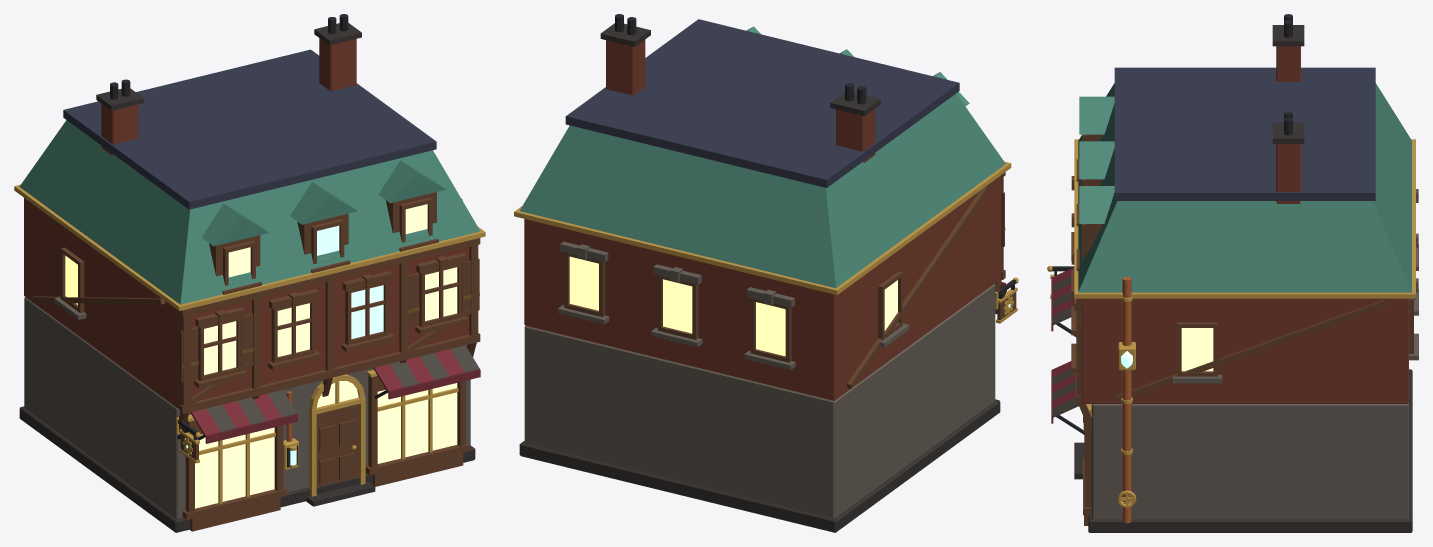
File: CasaLarga.fbx
The picture shows the model from 3 angles, left to right: view 1: azimuth 30°, elevation 25°; view 2: azimuth 150°, elevation 25°; view 3: azimuth 270°, elevation 25°; orthographic projection. The views are drawn at different scales.
Parts seen in each view (by area): view 1: Corpo, JanelaAndar0, JanelaAndar1, JanelaCristal, JanelaAndar2; view 2: Corpo, JanelaAndar1; view 3: Corpo, JanelaAndar1.
Part boxes in pixels (x1,y1,x2,y2): Corpo: (14,14,485,532); JanelaAndar0: (195,381,457,508); JanelaAndar1: (65,255,457,374); JanelaCristal: (317,225,383,338); JanelaAndar2: (228,204,427,277); Corpo: (514,14,1018,532); JanelaAndar1: (569,256,897,356); Corpo: (1047,14,1418,532); JanelaAndar1: (1181,328,1213,371).
Bounding box in the file's own units: 10.9 × 12.41 × 10.55.
